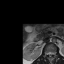CCS_normal: (49, 50, 51, 57)
LFS_normal: (53, 51, 55, 56)
LLS_normal: (51, 51, 53, 56)
RFS_normal: (46, 50, 48, 55)
RLS_normal: (48, 50, 49, 56)
